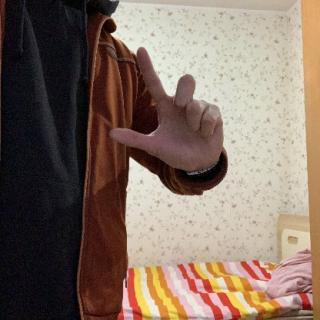LAAM: (106, 42, 226, 177)
